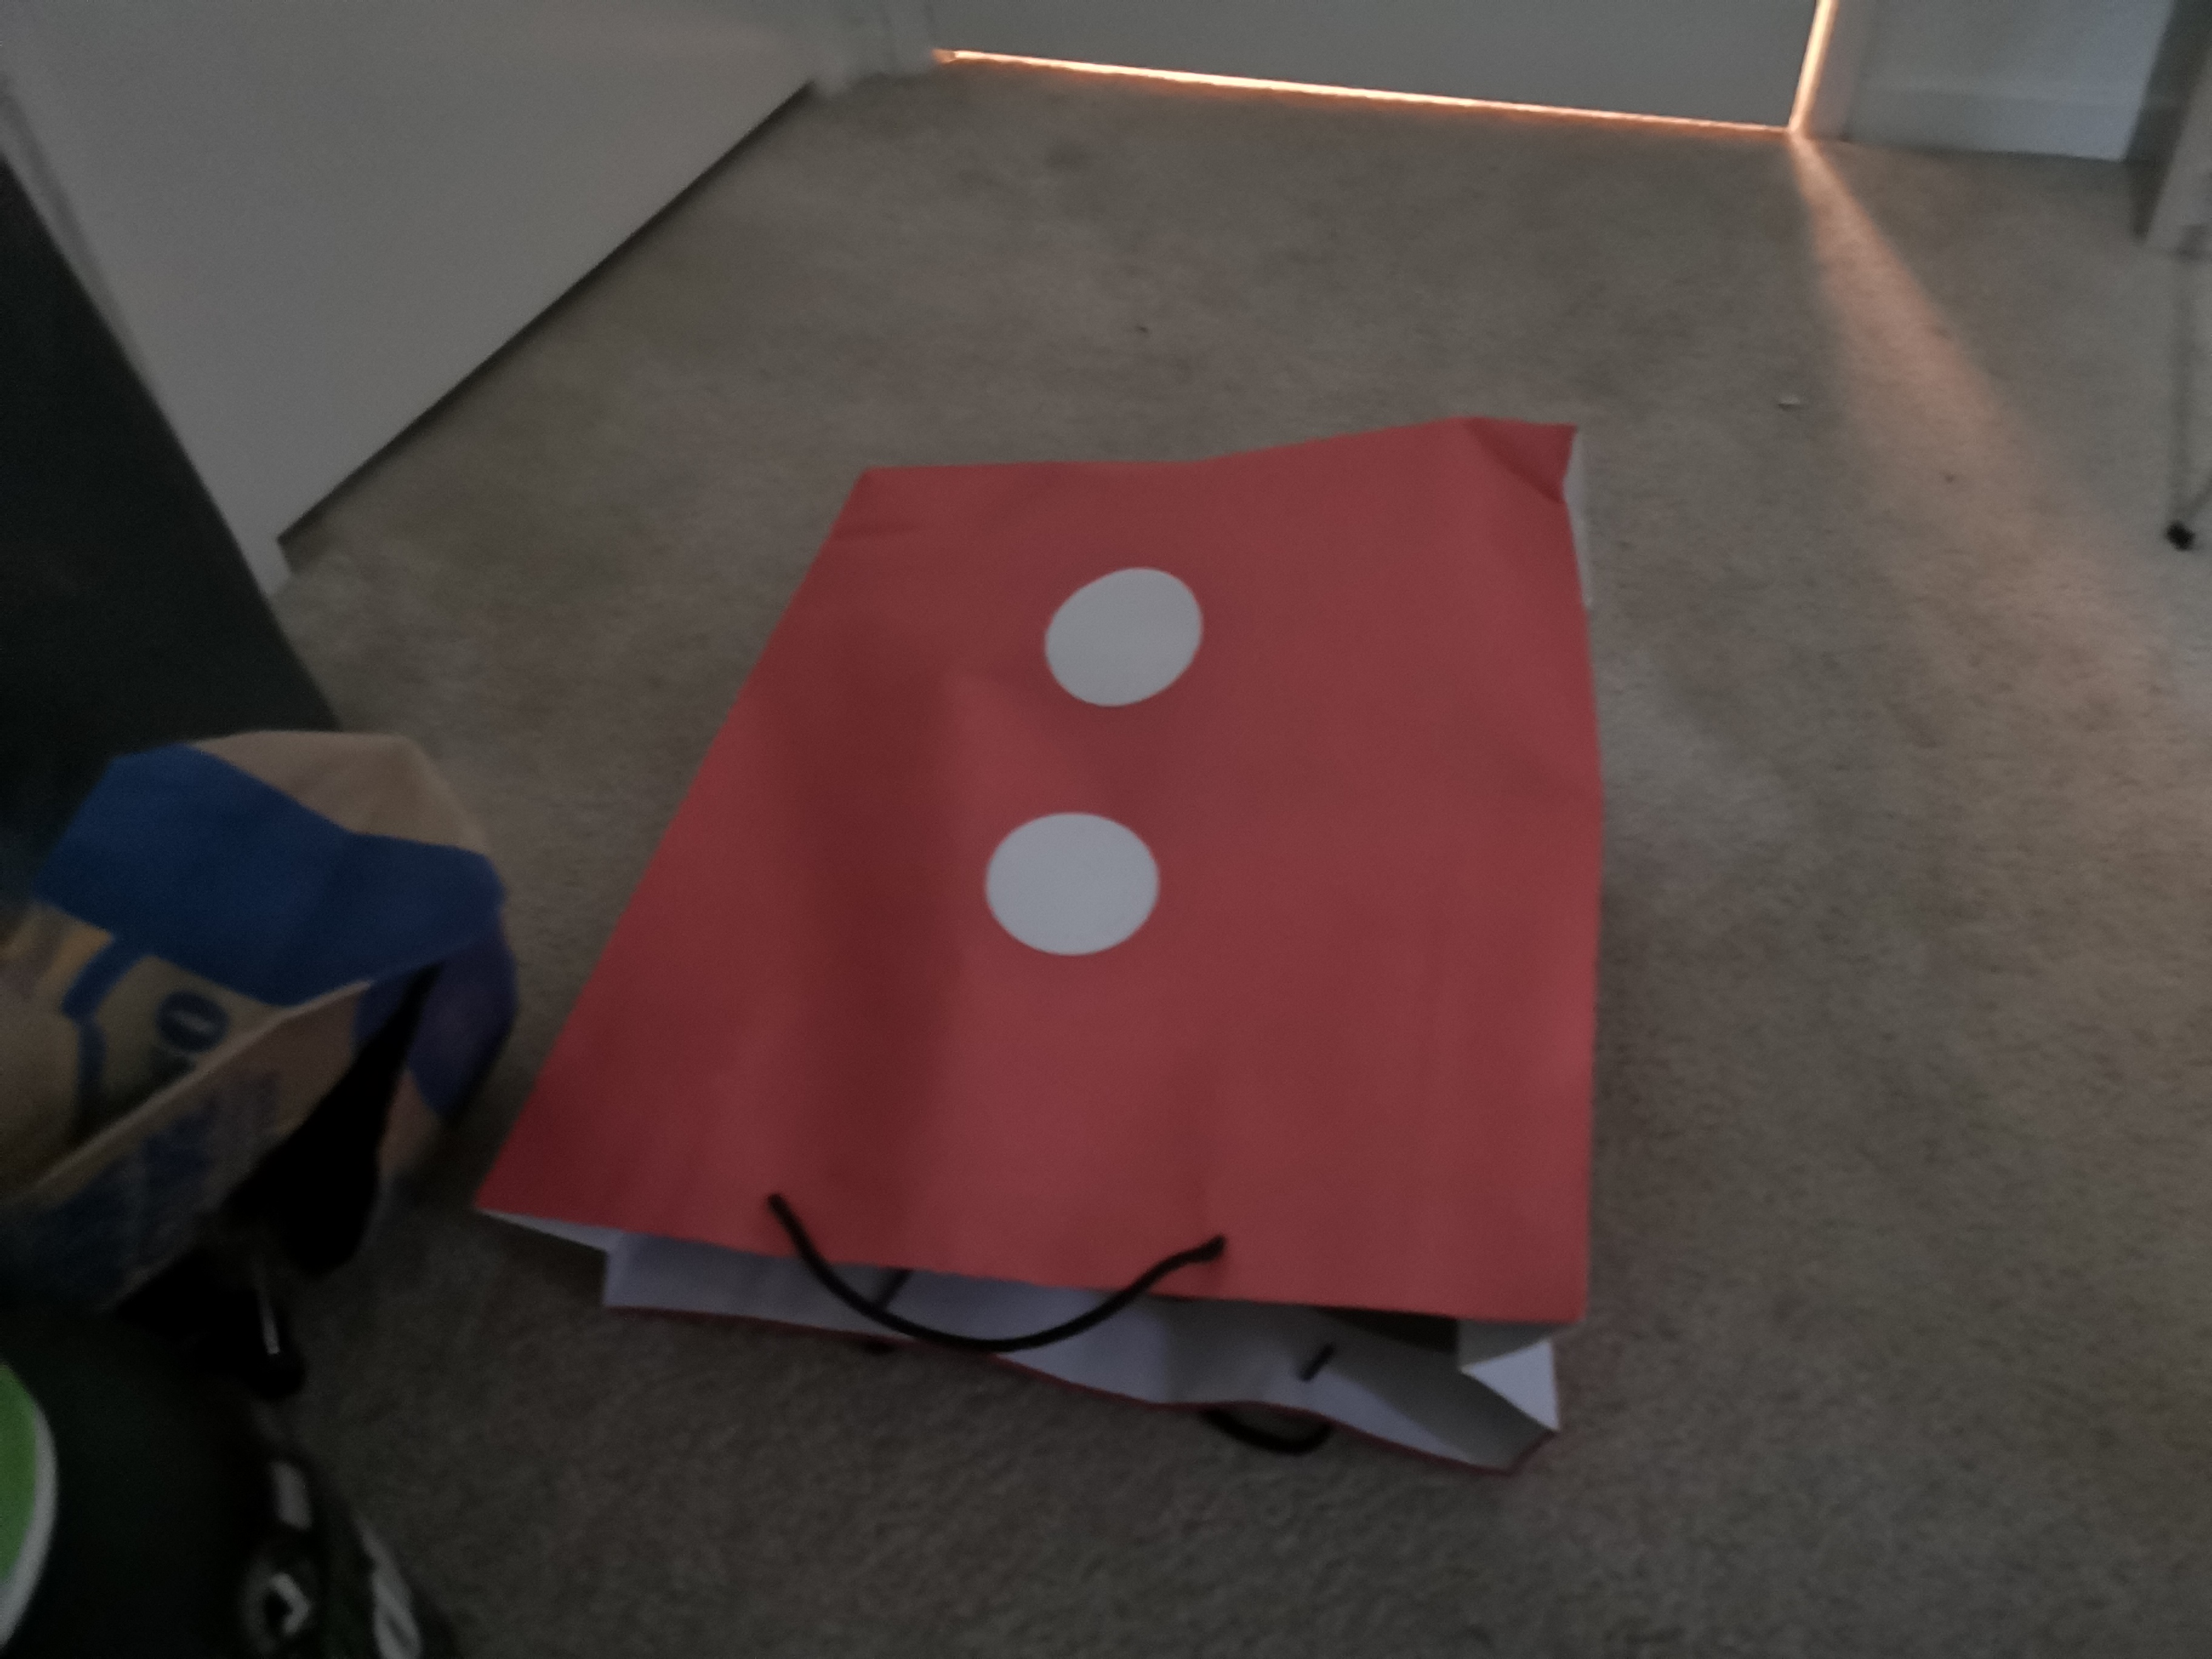Obstacle: (7, 7, 2202, 589), (516, 427, 1716, 1486), (5, 695, 503, 1608)
